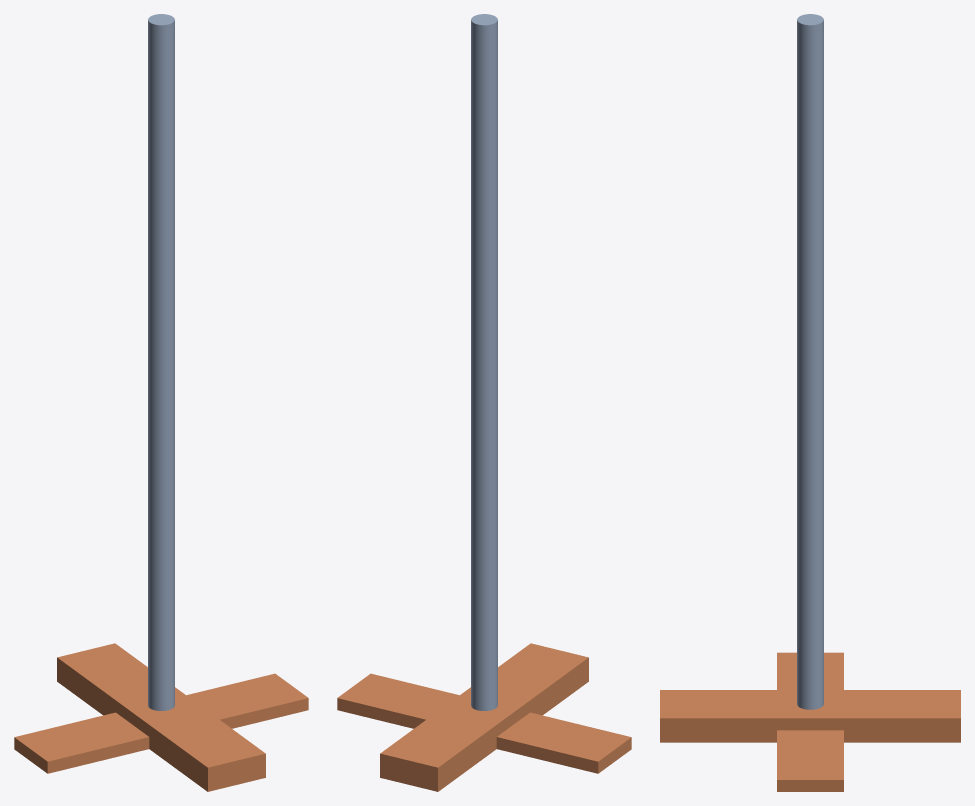
File: festivusPole.fbx
The picture shows the model from 3 angles, left to right: view 1: azimuth 30°, elevation 25°; view 2: azimuth 150°, elevation 25°; view 3: azimuth 270°, elevation 25°; orthographic projection.
Parts seen in each view (by area): view 1: festivusPole; view 2: festivusPole; view 3: festivusPole.
Boxes of the visible parts, x1=… form: festivusPole: x1=14, y1=14, x2=308, y2=791; festivusPole: x1=337, y1=14, x2=631, y2=791; festivusPole: x1=660, y1=14, x2=960, y2=791.
Size of the model in its own units: 4.5 by 11.7 by 4.5.
